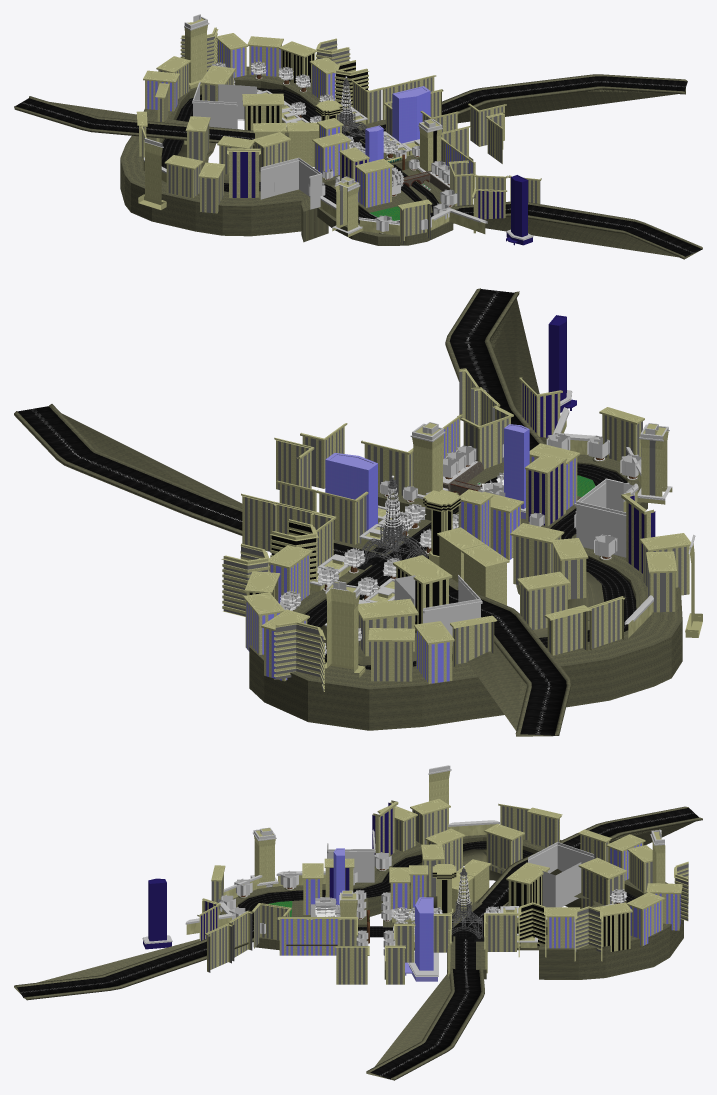
File: Track 2.fbx
The picture shows the model from 3 angles, top to bottom: view 1: azimuth 30°, elevation 25°; view 2: azimuth 150°, elevation 25°; view 3: azimuth 270°, elevation 25°; orthographic projection. The views are drawn at different scales.
Parts seen in each view (by area): view 1: Cylinder.003, Cube.013, Cube.006, Cube.108, Cube.038, NurbsPath.006, NurbsPath.005, NurbsPath, Cube.035, Track2, Cube.008, Cube.111 (+9 smaller); view 2: Cylinder.003, Cube.006, Cube.013, Cube.108, Cube.038, NurbsPath.006, NurbsPath, Cube.035, NurbsPath.005, Cube.111, Track2, Cube.043 (+8 smaller); view 3: Cylinder.003, Cube.013, Cube.108, NurbsPath.006, Cube.006, Cube.038, NurbsPath.005, Cube.035, NurbsPath, Track2, Cube.111, Cube.043 (+6 smaller).
Boxes of the visible parts, bbox=[...] form: Cylinder.003: bbox=[143, 14, 369, 148]; Cube.013: bbox=[397, 103, 541, 245]; Cube.006: bbox=[120, 66, 328, 242]; Cube.108: bbox=[136, 111, 290, 213]; Cube.038: bbox=[260, 125, 399, 237]; NurbsPath.006: bbox=[354, 74, 687, 139]; NurbsPath.005: bbox=[452, 201, 702, 259]; NurbsPath: bbox=[14, 96, 360, 146]; Cube.035: bbox=[351, 75, 443, 155]; Track2: bbox=[161, 88, 438, 223]; Cube.008: bbox=[317, 138, 473, 245]; Cube.111: bbox=[253, 100, 342, 166]; Cylinder.003: bbox=[221, 519, 497, 691]; Cube.006: bbox=[249, 534, 682, 730]; Cube.013: bbox=[274, 315, 644, 502]; Cube.108: bbox=[510, 492, 702, 655]; Cube.038: bbox=[504, 423, 672, 557]; NurbsPath.006: bbox=[14, 404, 381, 563]; NurbsPath: bbox=[370, 557, 570, 736]; Cube.035: bbox=[241, 453, 377, 567]; NurbsPath.005: bbox=[445, 288, 547, 450]; Cube.111: bbox=[423, 489, 509, 605]; Track2: bbox=[304, 463, 636, 669]; Cube.043: bbox=[458, 489, 523, 560]; Cylinder.003: bbox=[506, 829, 688, 961]; Cube.013: bbox=[142, 865, 415, 984]; Cube.108: bbox=[372, 765, 562, 896]; NurbsPath.006: bbox=[366, 937, 484, 1080]; Cube.006: bbox=[353, 827, 683, 979]; Cube.038: bbox=[223, 827, 375, 914]; NurbsPath.005: bbox=[14, 930, 260, 1000]; Cube.035: bbox=[405, 897, 518, 981]; NurbsPath: bbox=[456, 806, 702, 939]; Track2: bbox=[238, 841, 636, 937]; Cube.111: bbox=[432, 859, 491, 915]; Cube.043: bbox=[389, 865, 428, 910].
Size of the model in its own units: 30199 by 5285 by 32288.
